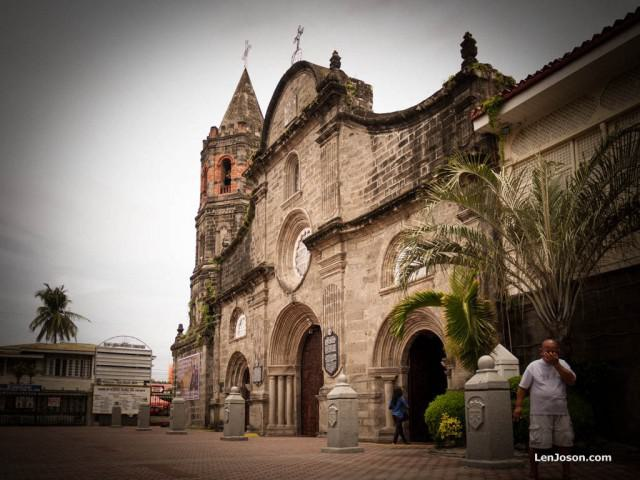barasoain_church_malolos_bulacan: (168, 22, 508, 434)
